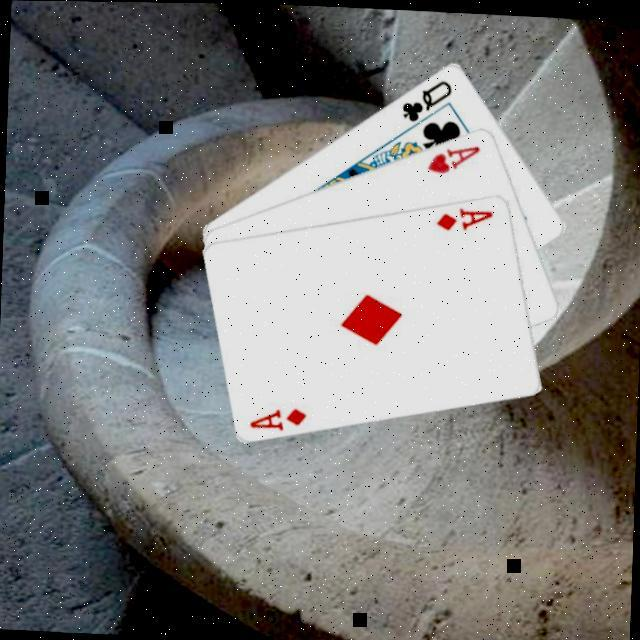AD: (432, 203, 495, 234), (245, 402, 308, 433)
AH: (423, 138, 482, 177)
QC: (397, 73, 455, 126)
